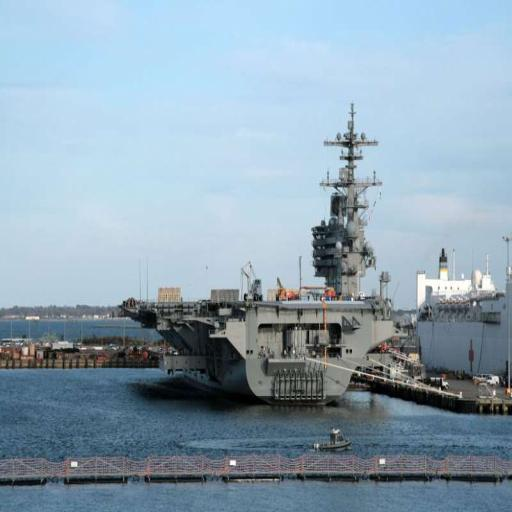Portanaves: (115, 95, 403, 411)
